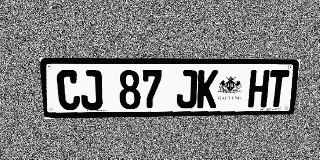7: (141, 70, 162, 109)
8: (119, 70, 140, 109)
C: (56, 70, 81, 110)
H: (247, 70, 270, 107)
J: (79, 70, 103, 110), (176, 70, 197, 108)
K: (197, 70, 218, 108)
T: (267, 70, 289, 107)
